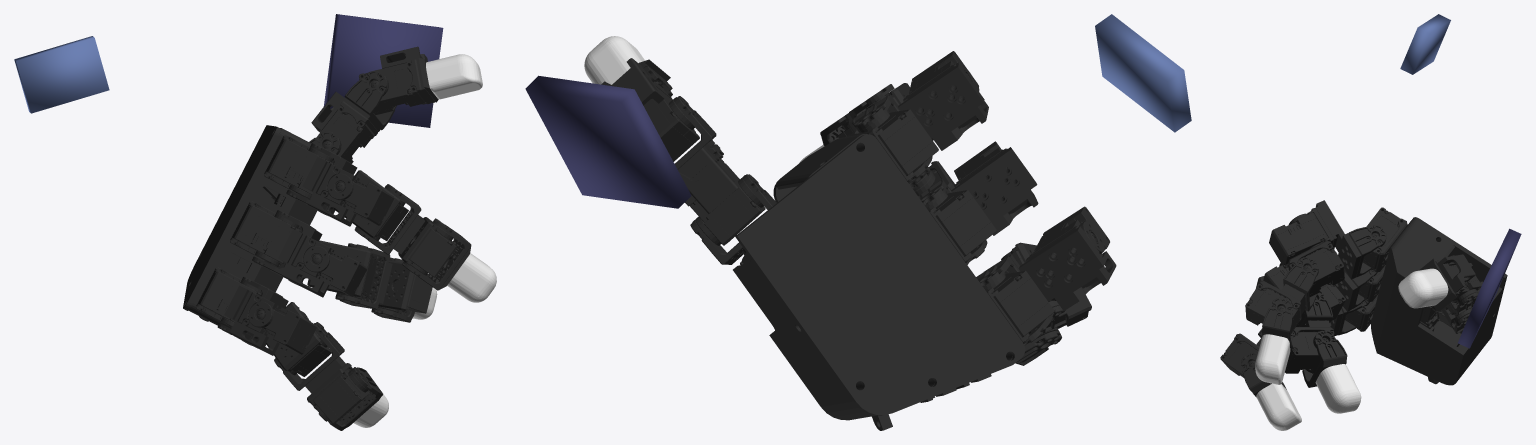
The picture shows the model from 3 angles, left to right: view 1: azimuth 30°, elevation 25°; view 2: azimuth 150°, elevation 25°; view 3: azimuth 270°, elevation 25°; orthographic projection. The views are drawn at different scales.
Visible parts, largest first — view 1: HAND__012__meshes__visual__palm_lower.glb__black_metal, OBJECT__00__recorded_box, OBJECT__01__recorded_box, HAND__011__meshes__visual__mcp_joint.glb_2__black_metal, HAND__009__meshes__visual__mcp_joint.glb__black_metal, HAND__010__meshes__visual__mcp_joint.glb_1__black_metal, HAND__017__meshes__visual__thumb_dip.glb__black_metal, HAND__000__meshes__visual__dip.glb__black_metal, HAND__002__meshes__visual__dip.glb_2__black_metal, HAND__001__meshes__visual__dip.glb_1__black_metal, HAND__019__meshes__visual__thumb_fingertip.glb_1__black_meta, HAND__018__meshes__visual__thumb_fingertip.glb__White_tip (+7 smaller); view 2: HAND__012__meshes__visual__palm_lower.glb__black_metal, OBJECT__00__recorded_box, HAND__011__meshes__visual__mcp_joint.glb_2__black_metal, OBJECT__01__recorded_box, HAND__009__meshes__visual__mcp_joint.glb__black_metal, HAND__017__meshes__visual__thumb_dip.glb__black_metal, HAND__010__meshes__visual__mcp_joint.glb_1__black_metal, HAND__019__meshes__visual__thumb_fingertip.glb_1__black_meta, HAND__018__meshes__visual__thumb_fingertip.glb__White_tip, HAND__020__meshes__visual__thumb_pip.glb__black_metal, HAND__002__meshes__visual__dip.glb_2__black_metal, HAND__008__meshes__visual__fingertip.glb_5__black_metal; view 3: HAND__012__meshes__visual__palm_lower.glb__black_metal, HAND__009__meshes__visual__mcp_joint.glb__black_metal, HAND__000__meshes__visual__dip.glb__black_metal, HAND__001__meshes__visual__dip.glb_1__black_metal, OBJECT__00__recorded_box, HAND__019__meshes__visual__thumb_fingertip.glb_1__black_meta, HAND__005__meshes__visual__fingertip.glb_2__White_tip, OBJECT__01__recorded_box, HAND__018__meshes__visual__thumb_fingertip.glb__White_tip, HAND__013__meshes__visual__pip.glb__black_metal, HAND__003__meshes__visual__fingertip.glb__White_tip, HAND__007__meshes__visual__fingertip.glb_4__White_tip (+8 smaller).
Boxes of the visible parts, bbox=[...] form: HAND__012__meshes__visual__palm_lower.glb__black_metal: bbox=[183, 125, 333, 328]; OBJECT__00__recorded_box: bbox=[323, 14, 443, 127]; OBJECT__01__recorded_box: bbox=[14, 36, 109, 113]; HAND__011__meshes__visual__mcp_joint.glb_2__black_metal: bbox=[217, 276, 316, 355]; HAND__009__meshes__visual__mcp_joint.glb__black_metal: bbox=[286, 143, 394, 226]; HAND__010__meshes__visual__mcp_joint.glb_1__black_metal: bbox=[252, 210, 367, 297]; HAND__017__meshes__visual__thumb_dip.glb__black_metal: bbox=[311, 71, 396, 163]; HAND__000__meshes__visual__dip.glb__black_metal: bbox=[354, 184, 456, 277]; HAND__002__meshes__visual__dip.glb_2__black_metal: bbox=[274, 322, 369, 424]; HAND__001__meshes__visual__dip.glb_1__black_metal: bbox=[335, 243, 432, 313]; HAND__019__meshes__visual__thumb_fingertip.glb_1__black_meta: bbox=[359, 46, 438, 114]; HAND__018__meshes__visual__thumb_fingertip.glb__White_tip: bbox=[426, 54, 482, 99]; HAND__012__meshes__visual__palm_lower.glb__black_metal: bbox=[733, 109, 1054, 430]; OBJECT__00__recorded_box: bbox=[525, 75, 691, 208]; HAND__011__meshes__visual__mcp_joint.glb_2__black_metal: bbox=[976, 206, 1116, 345]; OBJECT__01__recorded_box: bbox=[1095, 14, 1191, 132]; HAND__009__meshes__visual__mcp_joint.glb__black_metal: bbox=[852, 51, 988, 182]; HAND__017__meshes__visual__thumb_dip.glb__black_metal: bbox=[673, 96, 765, 245]; HAND__010__meshes__visual__mcp_joint.glb_1__black_metal: bbox=[918, 141, 1038, 264]; HAND__019__meshes__visual__thumb_fingertip.glb_1__black_meta: bbox=[601, 58, 699, 161]; HAND__018__meshes__visual__thumb_fingertip.glb__White_tip: bbox=[584, 36, 644, 84]; HAND__020__meshes__visual__thumb_pip.glb__black_metal: bbox=[690, 174, 776, 264]; HAND__002__meshes__visual__dip.glb_2__black_metal: bbox=[1001, 252, 1091, 342]; HAND__008__meshes__visual__fingertip.glb_5__black_metal: bbox=[1015, 330, 1061, 365]; HAND__012__meshes__visual__palm_lower.glb__black_metal: bbox=[1345, 207, 1507, 385]; HAND__009__meshes__visual__mcp_joint.glb__black_metal: bbox=[1269, 200, 1386, 279]; HAND__000__meshes__visual__dip.glb__black_metal: bbox=[1245, 257, 1318, 334]; HAND__001__meshes__visual__dip.glb_1__black_metal: bbox=[1285, 290, 1334, 373]; OBJECT__00__recorded_box: bbox=[1458, 228, 1521, 348]; HAND__019__meshes__visual__thumb_fingertip.glb_1__black_meta: bbox=[1419, 254, 1481, 311]; HAND__005__meshes__visual__fingertip.glb_2__White_tip: bbox=[1315, 364, 1361, 413]; OBJECT__01__recorded_box: bbox=[1400, 14, 1450, 74]; HAND__018__meshes__visual__thumb_fingertip.glb__White_tip: bbox=[1398, 268, 1448, 308]; HAND__013__meshes__visual__pip.glb__black_metal: bbox=[1288, 240, 1344, 296]; HAND__003__meshes__visual__fingertip.glb__White_tip: bbox=[1255, 334, 1290, 384]; HAND__007__meshes__visual__fingertip.glb_4__White_tip: bbox=[1256, 383, 1301, 430].
Size of the model in its own units: 0.3177 by 0.2517 by 0.2133.
